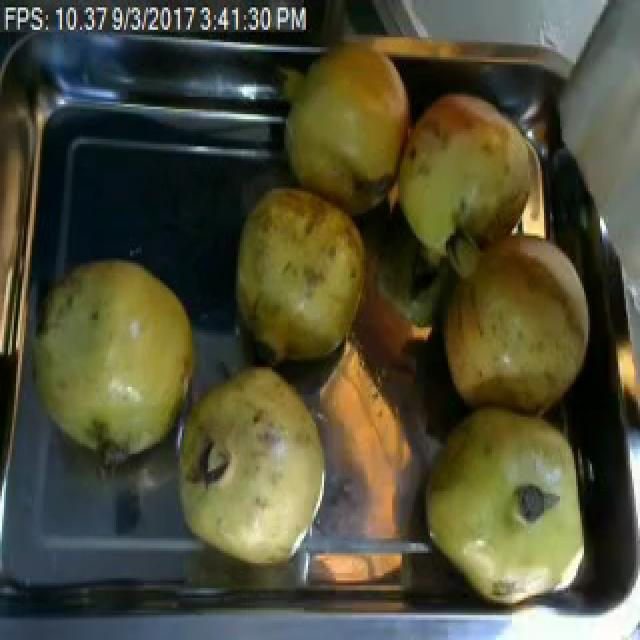fruit: (412, 392, 600, 615), (160, 345, 338, 575), (26, 248, 208, 471), (428, 203, 608, 422), (386, 82, 560, 275), (228, 176, 382, 377), (276, 32, 420, 226)
